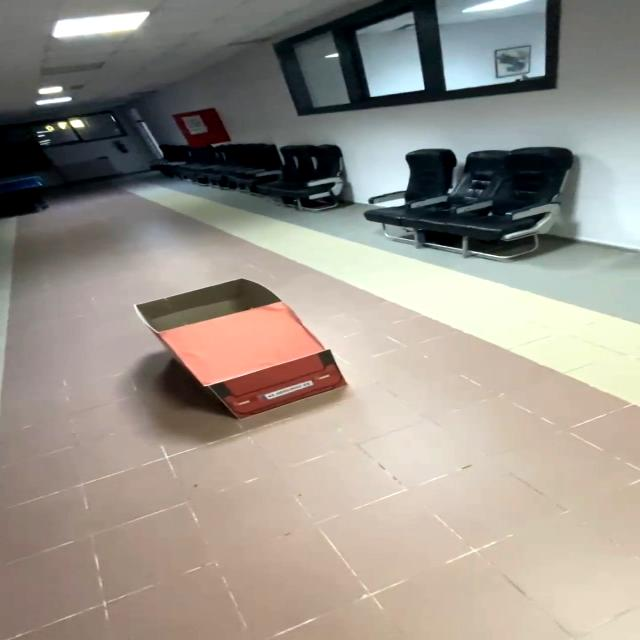red_car: (105, 261, 384, 433)
